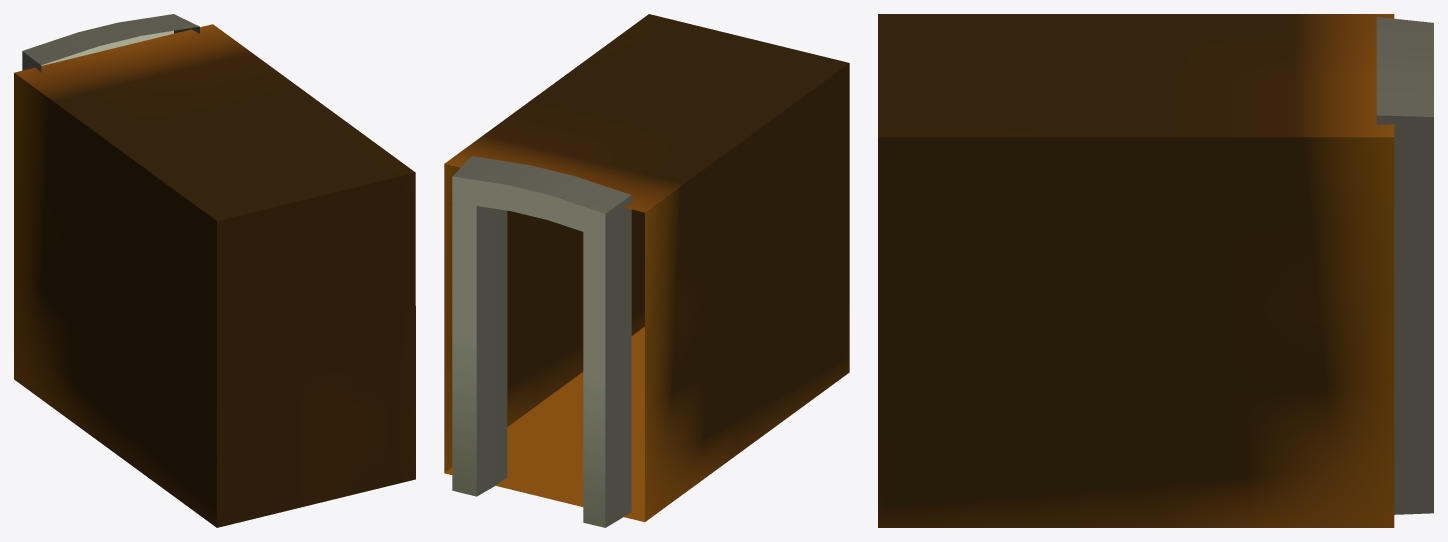
File: door_box.FBX
3 views of the same model, side by side, from view 1: azimuth 30°, elevation 25°; view 2: azimuth 150°, elevation 25°; view 3: azimuth 270°, elevation 25° (orthographic). The views are drawn at different scales.
Parts seen in each view (by area): view 1: Mesh_0040; view 2: Mesh_0040; view 3: Mesh_0040.
Part boxes in pixels (box(x1,y1,x2,y2)): Mesh_0040: box(14, 14, 415, 527); Mesh_0040: box(444, 14, 849, 527); Mesh_0040: box(878, 14, 1433, 527).
Bounding box in the file's own units: 520 × 798 × 989.
